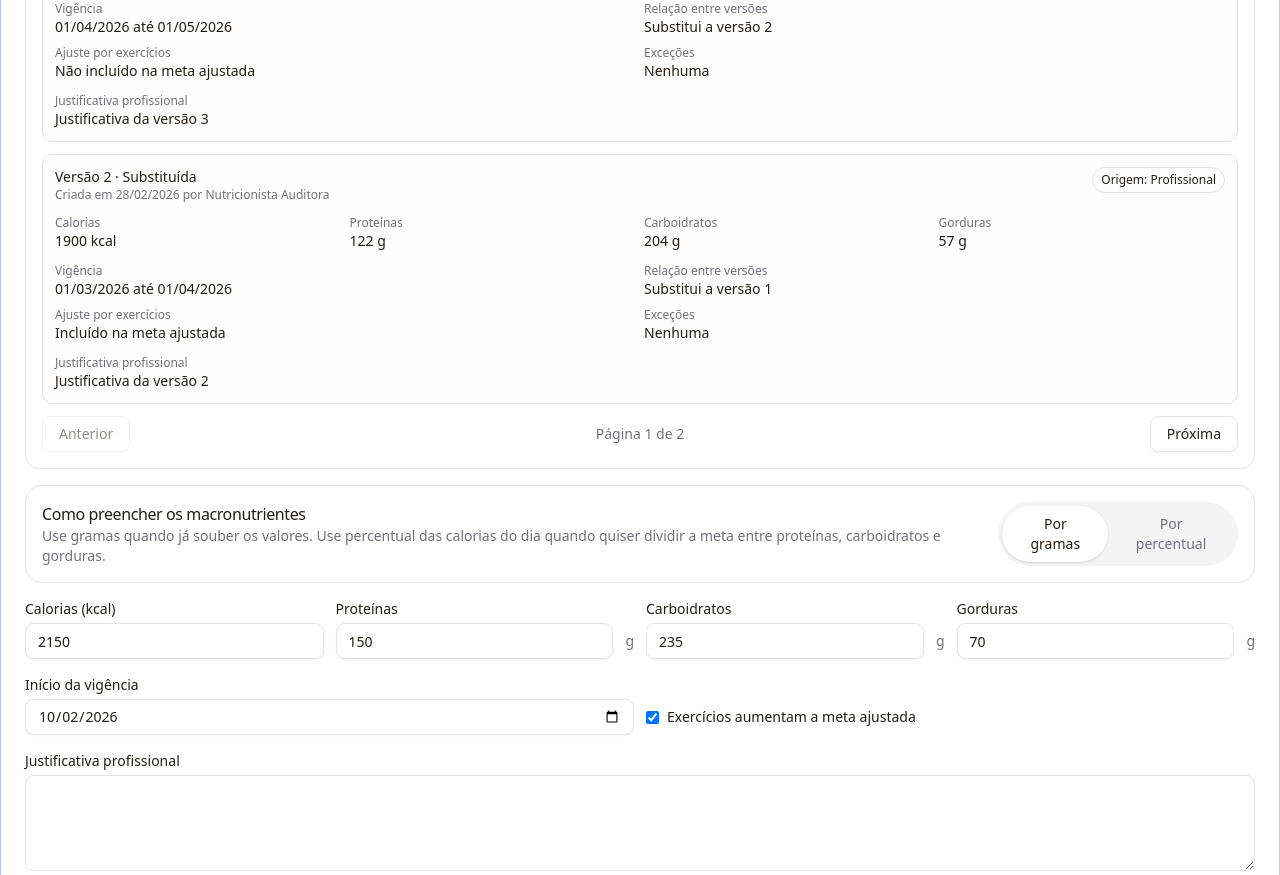
Test: ProfessionalOfficialGoalCard › renders immutable goal history with values, authorship, origin, validity and supersession
(page scrolled)
Check: the text "Página 1 de 2" is shown, box [596, 424, 684, 444]
Check: the text "Versão 1 · Substituída" is not shown
Click the button "Próxima" at (1194, 434), box [1150, 416, 1238, 452]
(page scrolled)
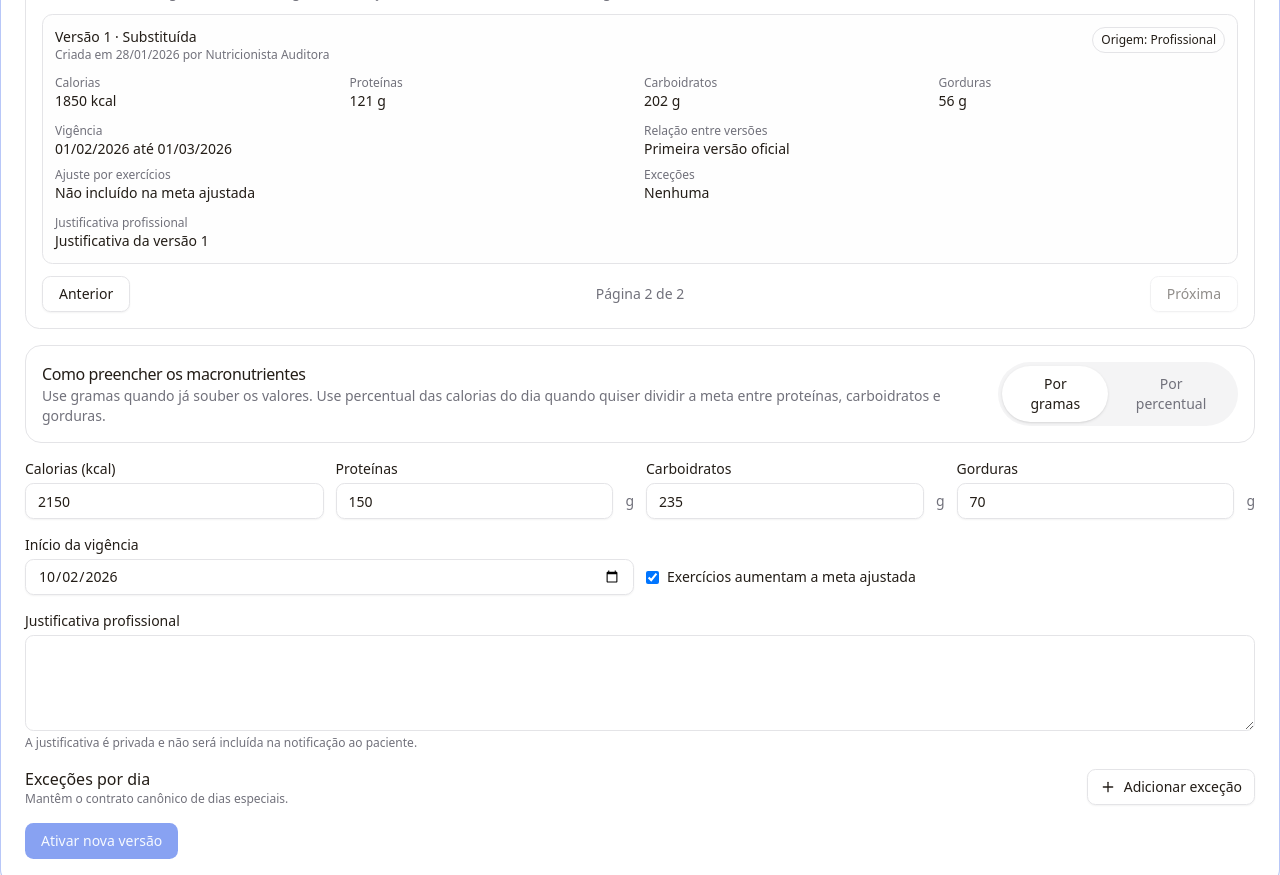
Check: the text "Versão 1 · Substituída" is shown, box [55, 27, 197, 46]
Check: the text "Primeira versão oficial" is shown, box [644, 139, 790, 158]
Check: the text "Página 2 de 2" is shown, box [596, 284, 684, 304]
